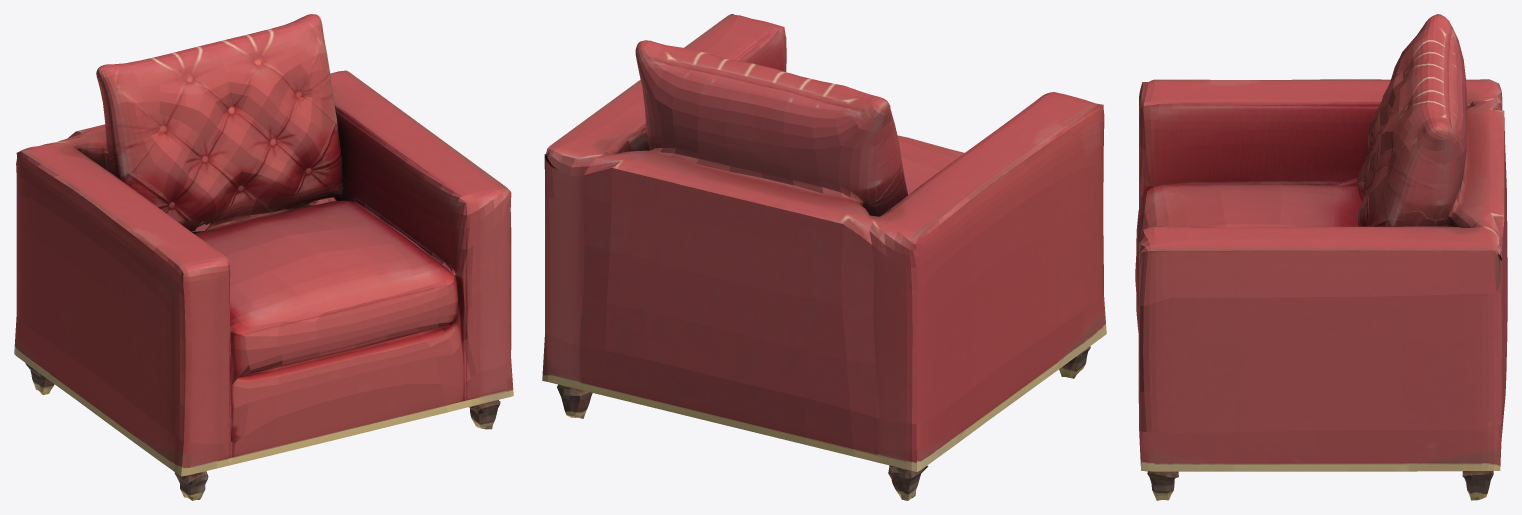
The model's file is Meshy_AI_Crimson_Tufted_Leathe_0403034744_texture.fbx.
3 renders of one model, left to right at view 1: azimuth 30°, elevation 25°; view 2: azimuth 150°, elevation 25°; view 3: azimuth 270°, elevation 25°, orthographic. The views are drawn at different scales.
Visible parts, largest first — view 1: temp; view 2: temp; view 3: temp.
Boxes of the visible parts, <box> form: temp: <box>14,14,513,500</box>; temp: <box>542,14,1106,500</box>; temp: <box>1135,14,1507,500</box>.
Bounding box in the file's own units: 191 × 179 × 171.
Materials: 1 (1 with a texture image).
